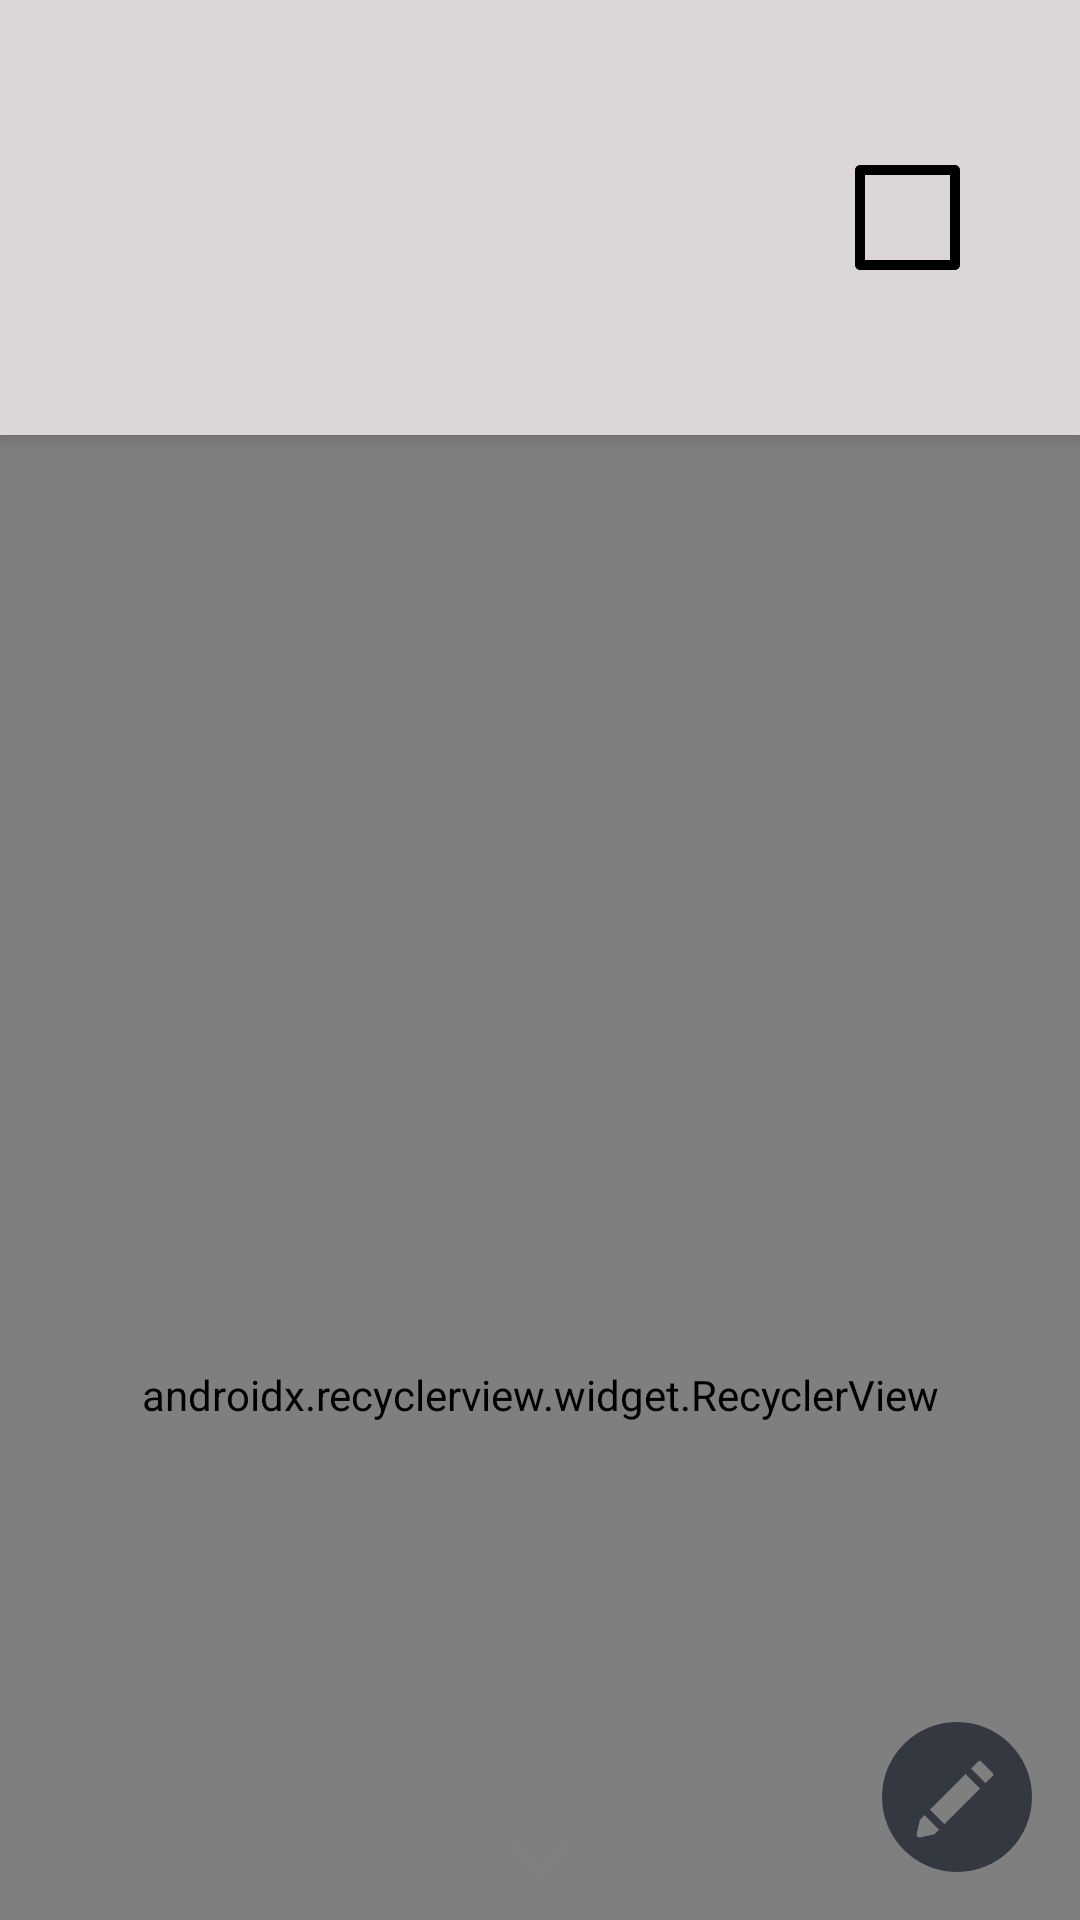

Named icons in this screenshot (1080×1920) and their bounding boxes, (x1, y1, x2, y2):
edit: (882, 1722, 1032, 1872)
